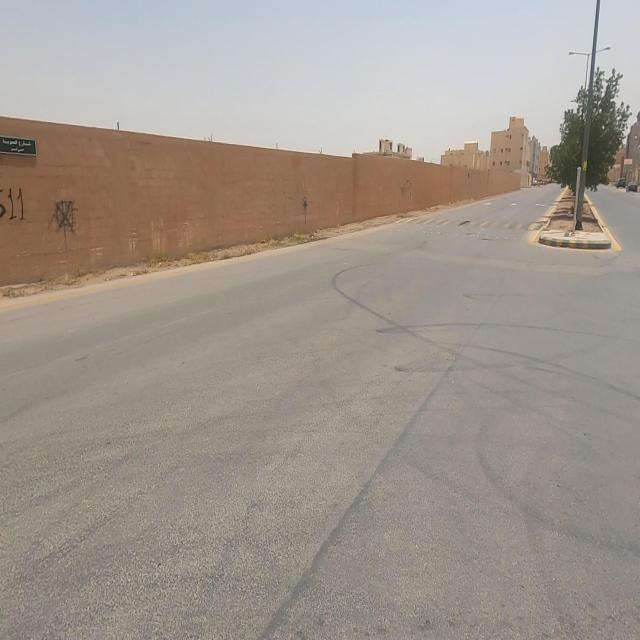Graffiti: (1, 184, 28, 226), (55, 199, 80, 236), (302, 196, 313, 225)
